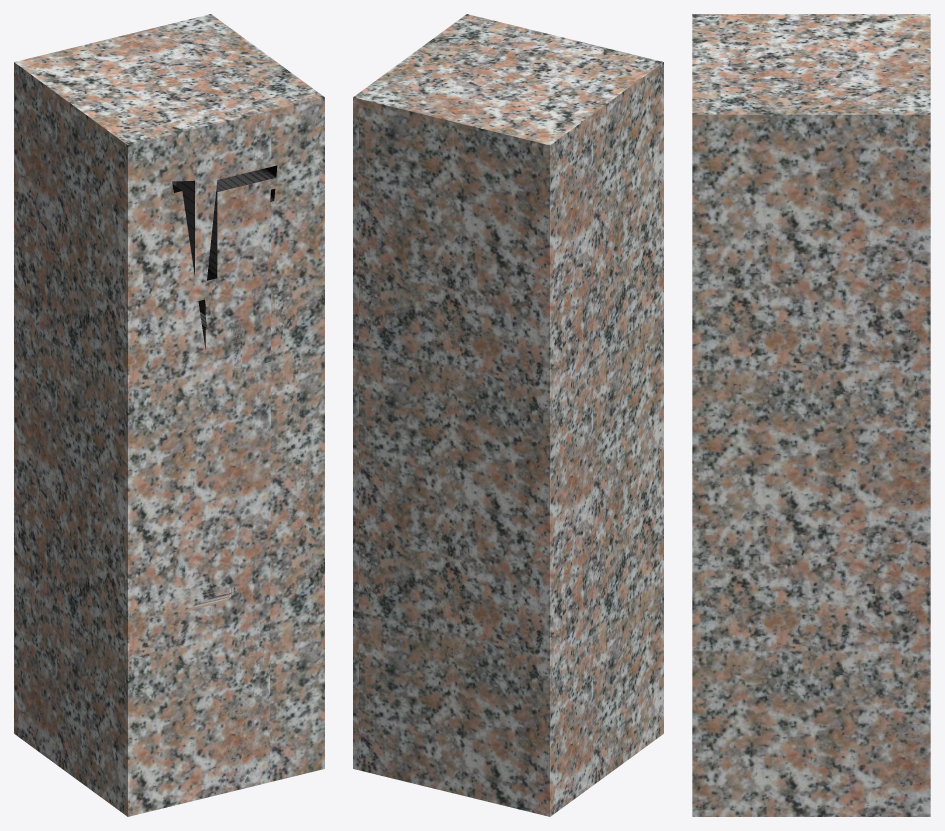
File: grave02.fbx
3 renders of one model, left to right at view 1: azimuth 30°, elevation 25°; view 2: azimuth 150°, elevation 25°; view 3: azimuth 270°, elevation 25°, orthographic. The views are drawn at different scales.
Visible parts, largest first — view 1: 立方体; view 2: 立方体; view 3: 立方体.
Boxes of the visible parts, left/top/right/bottom form: 立方体: left=14, top=14, right=324, bottom=816; 立方体: left=353, top=14, right=663, bottom=816; 立方体: left=692, top=14, right=930, bottom=816.
Bounding box in the file's own units: 1.1 × 3.57 × 1.1.
